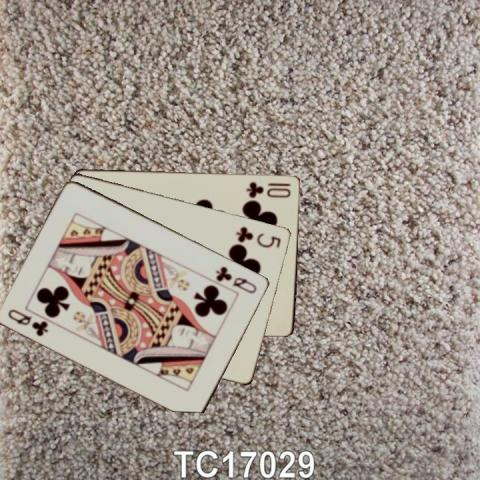10c: (243, 178, 293, 198)
5c: (233, 224, 283, 250)
Qc: (5, 305, 50, 338), (212, 263, 258, 295)
